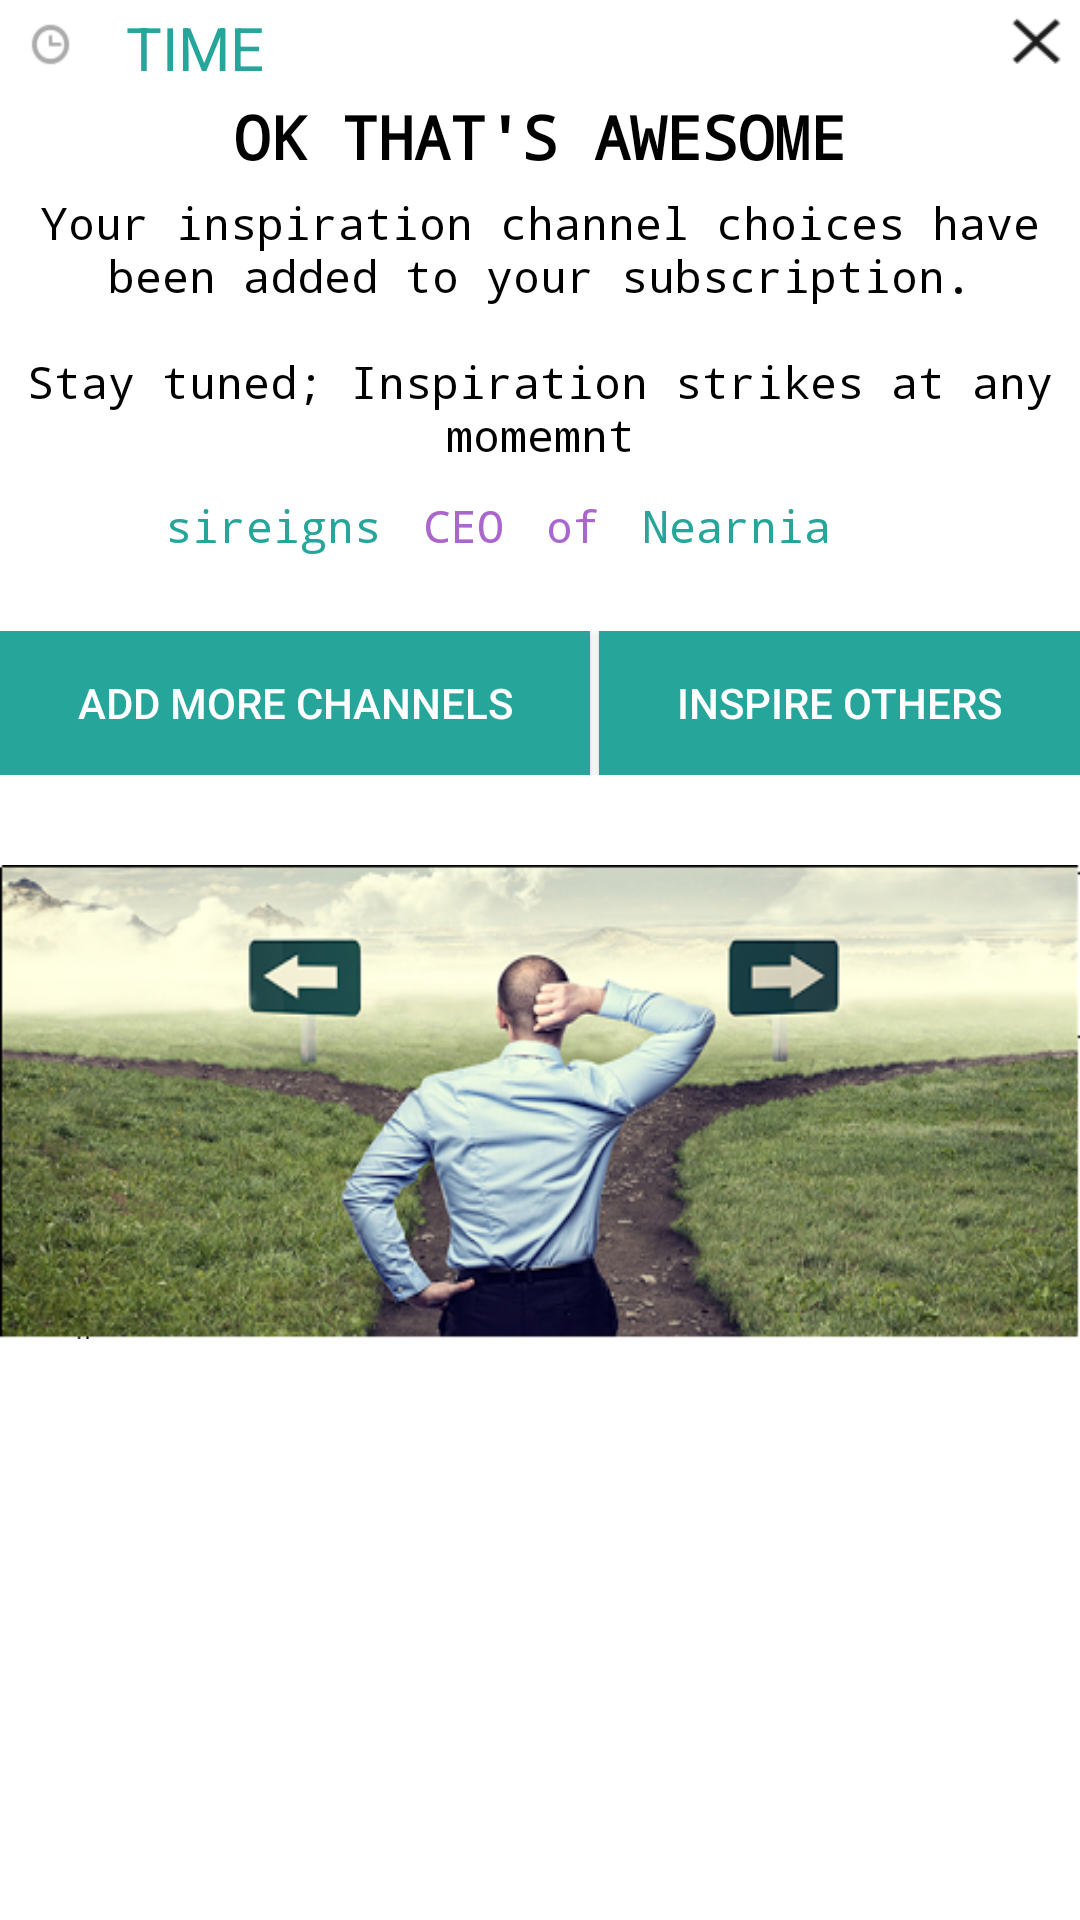

Locate icon controls on the screen. Image size 1080*1920, boxes as (x1=x1, y1=y1, x2=x2, y2=y2).
close: (x1=1012, y1=19, x2=1061, y2=64)
